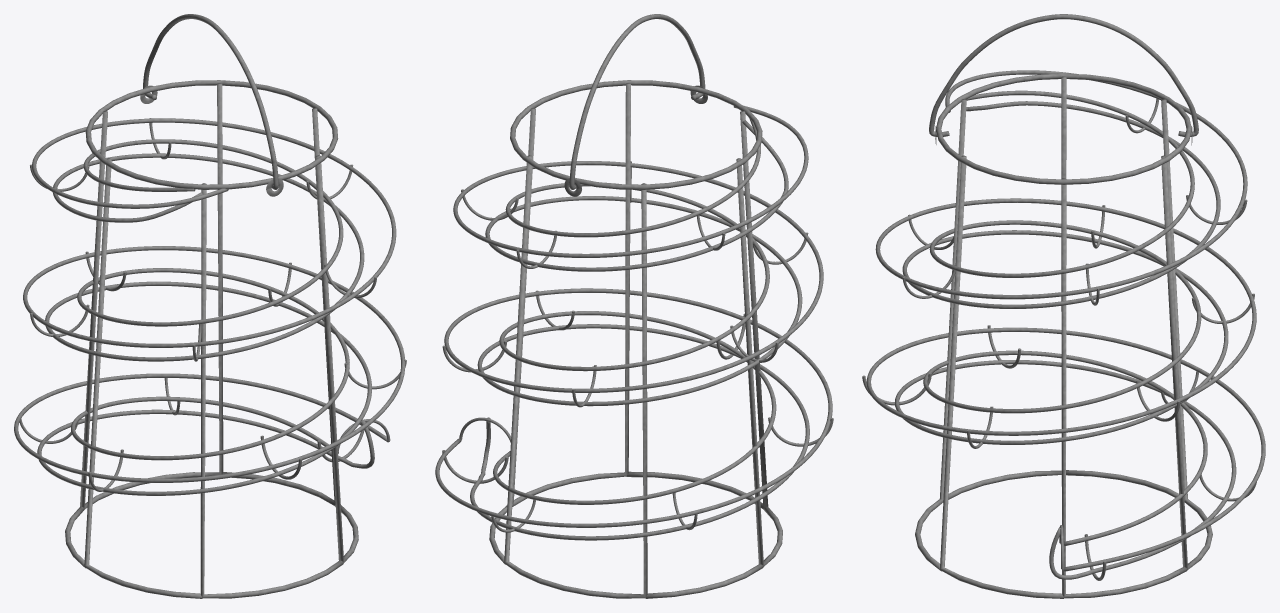
Rendered from arkiweez-egg-3605.glb.
The picture shows the model from 3 angles, left to right: view 1: azimuth 30°, elevation 25°; view 2: azimuth 150°, elevation 25°; view 3: azimuth 270°, elevation 25°; orthographic projection.
Parts seen in each view (by area): view 1: eggStorage; view 2: eggStorage; view 3: eggStorage.
Boxes of the visible parts, x1,y1,x2,y2 form: eggStorage: (14,14,406,598); eggStorage: (435,14,833,598); eggStorage: (862,14,1265,598).
Bounding box in the file's own units: 3.09 × 4.36 × 3.05.
Materials: 1 (1 with a texture image).
